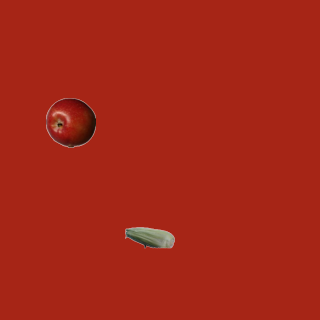Apple Braeburn: (45, 97, 95, 147)
Corn Husk: (124, 212, 174, 262)
